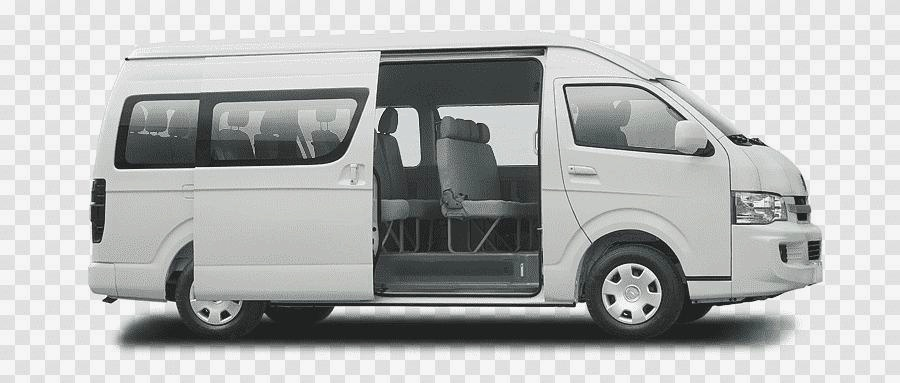van: (62, 36, 839, 332)
